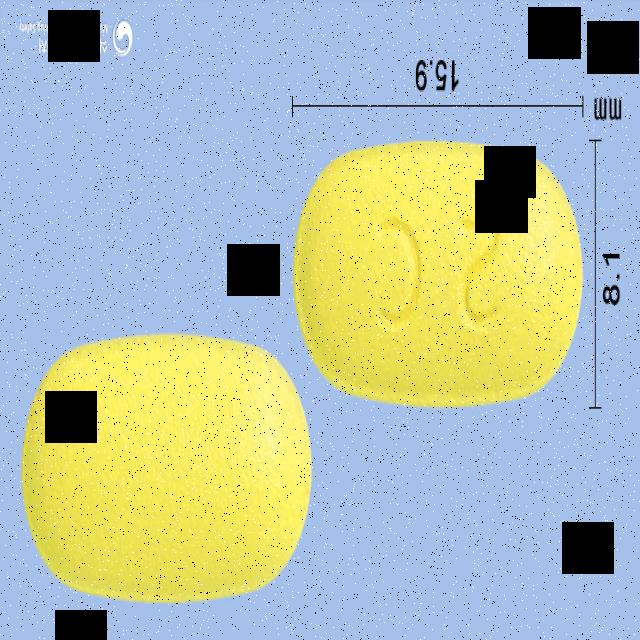Clithocin - 500mg: (292, 134, 588, 411), (22, 337, 313, 604)
